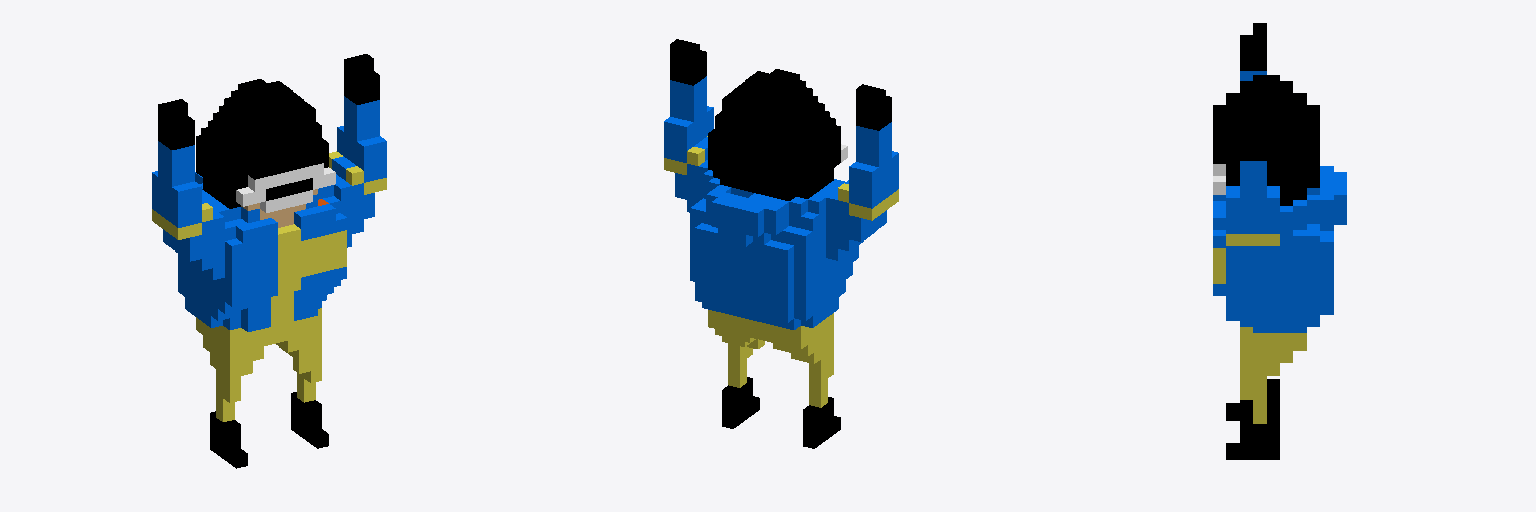
3 renders of one model, left to right at view 1: azimuth 30°, elevation 25°; view 2: azimuth 150°, elevation 25°; view 3: azimuth 270°, elevation 25°, orthographic.
Bounding box in the file's own units: 18 × 30 × 10.
Materials: 1 (1 with a texture image).